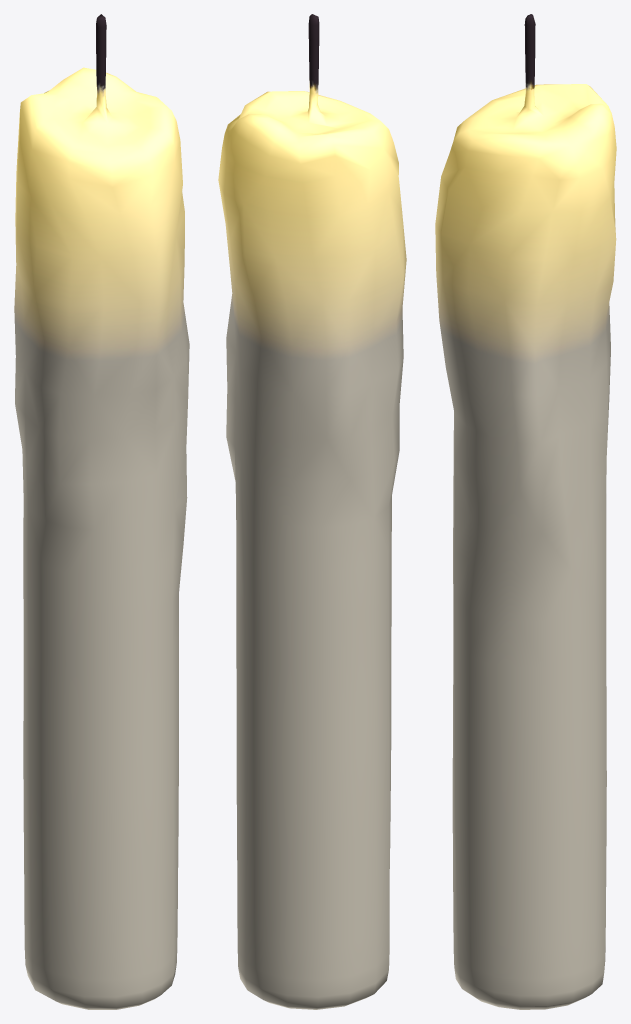
The model's file is goods_candles.gltf.
The picture shows the model from 3 angles, left to right: view 1: azimuth 30°, elevation 25°; view 2: azimuth 150°, elevation 25°; view 3: azimuth 270°, elevation 25°; orthographic projection.
Parts seen in each view (by area): view 1: CandleLow.uvl; view 2: CandleLow.uvl; view 3: CandleLow.uvl.
Part boxes in pixels (left/top/right/bottom): CandleLow.uvl: left=14, top=14, right=189, bottom=1009; CandleLow.uvl: left=218, top=14, right=406, bottom=1009; CandleLow.uvl: left=435, top=14, right=616, bottom=1009.
Size of the model in its own units: 4.66 by 26.56 by 4.5.
1 material, 1 textured.
